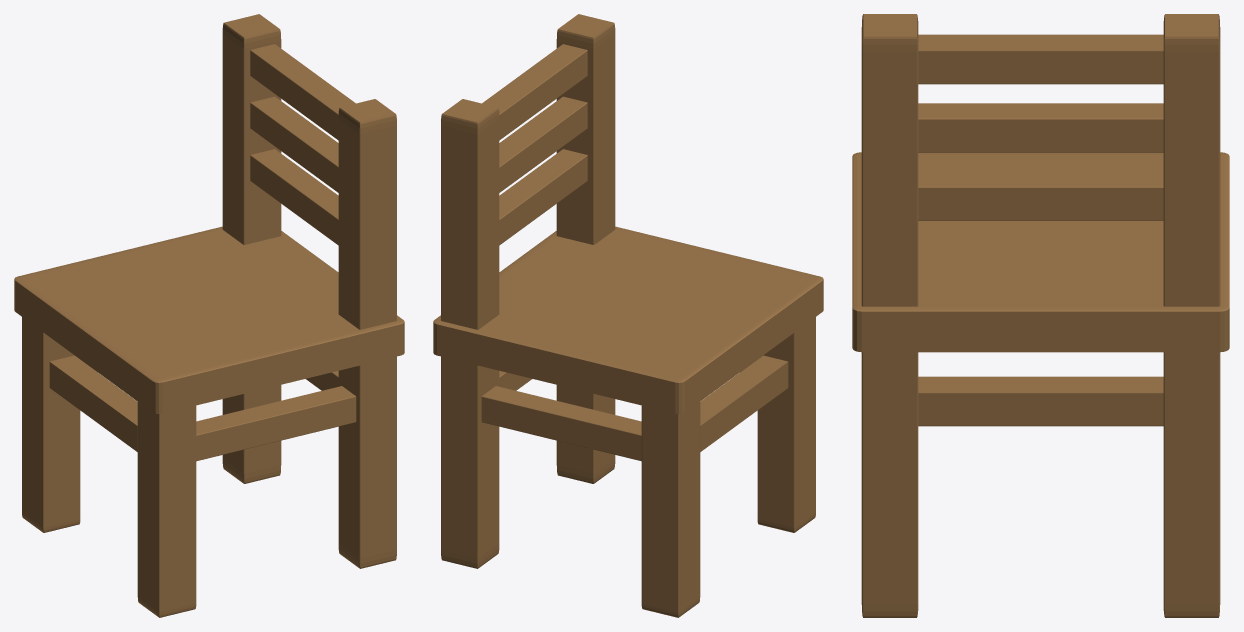
3 views of the same model, side by side, from view 1: azimuth 30°, elevation 25°; view 2: azimuth 150°, elevation 25°; view 3: azimuth 270°, elevation 25° (orthographic). The views are drawn at different scales.
Parts seen in each view (by area): view 1: Chair; view 2: Chair; view 3: Chair.
Part boxes in pixels (bbox=[...]): Chair: bbox=[14, 14, 404, 617]; Chair: bbox=[433, 14, 823, 617]; Chair: bbox=[852, 14, 1229, 617].
Bounding box in the file's own units: 4 × 6.8 × 4.
